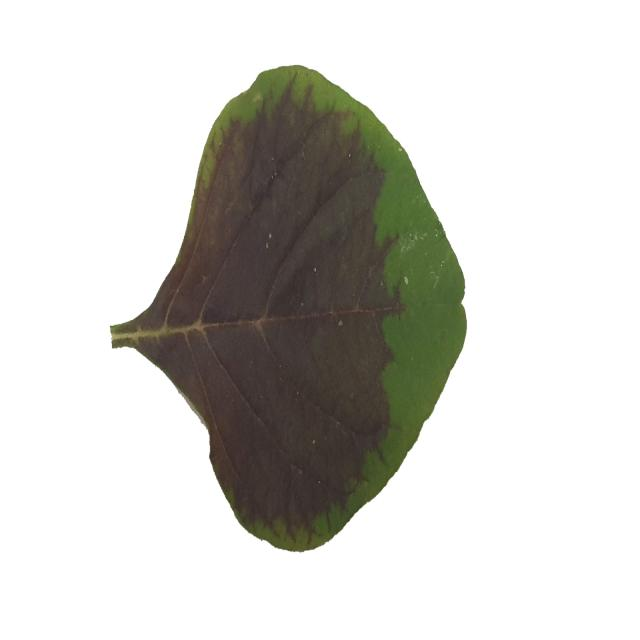Medicinal-Arive Dantu: (110, 65, 467, 554)
